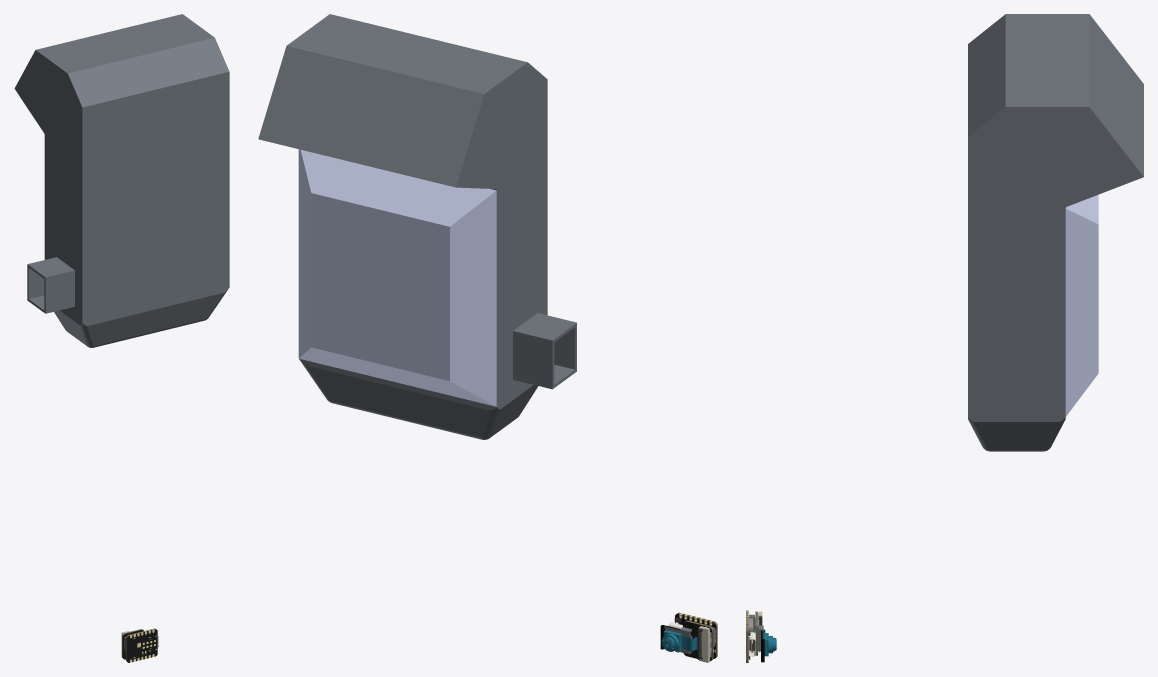
The model's file is web.gltf.
3 renders of one model, left to right at view 1: azimuth 30°, elevation 25°; view 2: azimuth 150°, elevation 25°; view 3: azimuth 270°, elevation 25°, orthographic. The views are drawn at different scales.
Parts seen in each view (by area): view 1: MGX_ENCLOSURE_BODY, SOLID; view 2: MGX_ENCLOSURE_BODY, MGX_Lid; view 3: MGX_ENCLOSURE_BODY, MGX_Lid.
Boxes of the visible parts, x1,y1,x2,y2 form: MGX_ENCLOSURE_BODY: (14,14,229,347); SOLID: (126,628,157,662); MGX_ENCLOSURE_BODY: (258,14,576,439); MGX_Lid: (298,149,496,406); MGX_ENCLOSURE_BODY: (968,14,1143,451); MGX_Lid: (1065,194,1098,416).
Size of the model in its own units: 0.1282 by 0.3292 by 0.1807.
